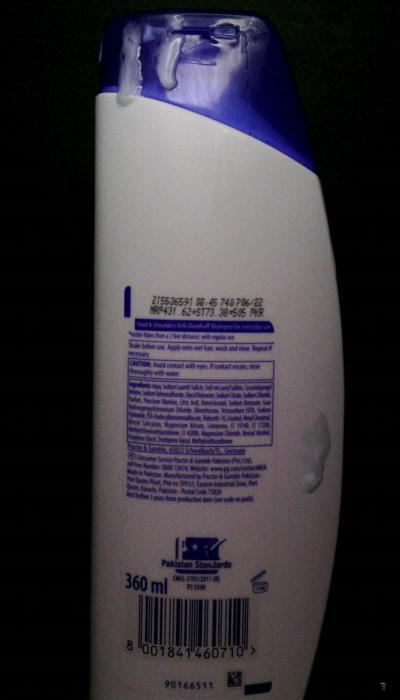pob_unacc: (296, 404, 342, 504), (154, 22, 207, 99), (108, 21, 146, 105)
